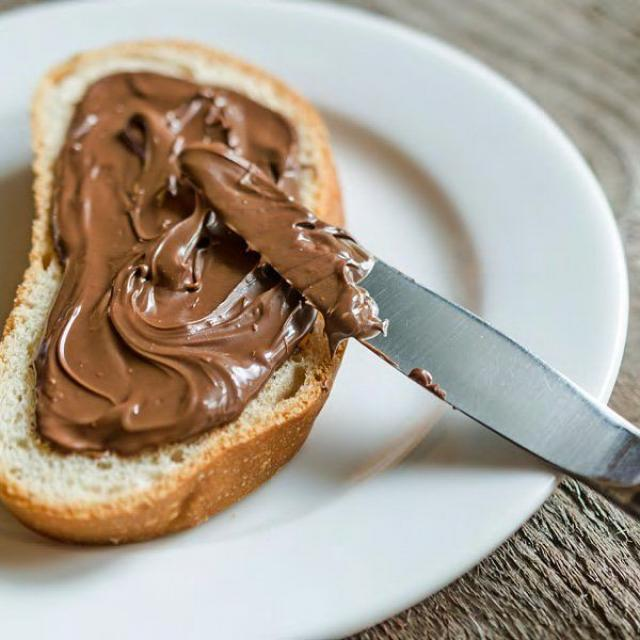Spread: (32, 67, 317, 463)
